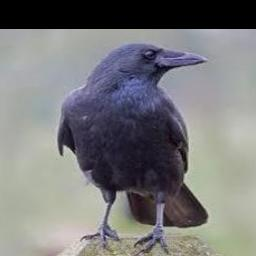Crow: (58, 43, 210, 256)
